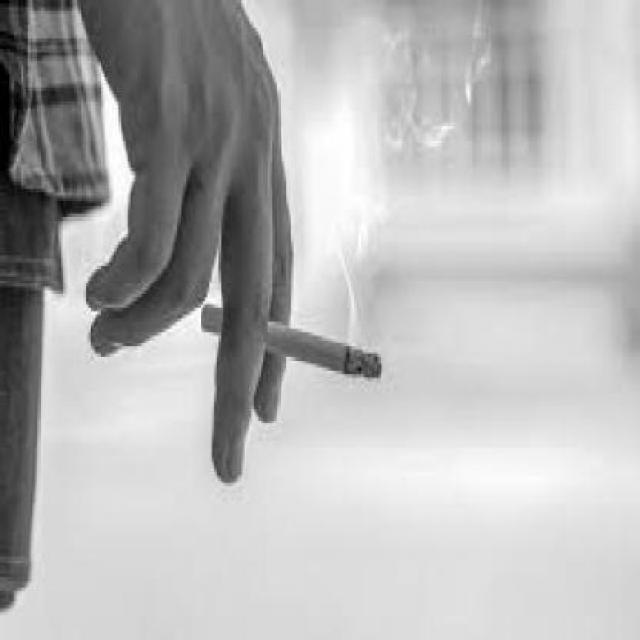smoke: (200, 297, 386, 385)
